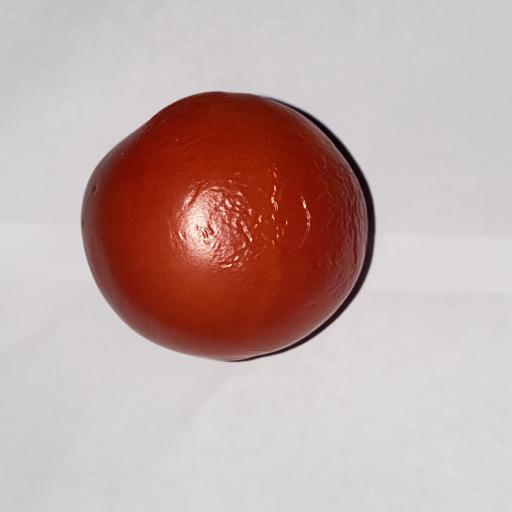spoiled: (82, 93, 368, 360)
